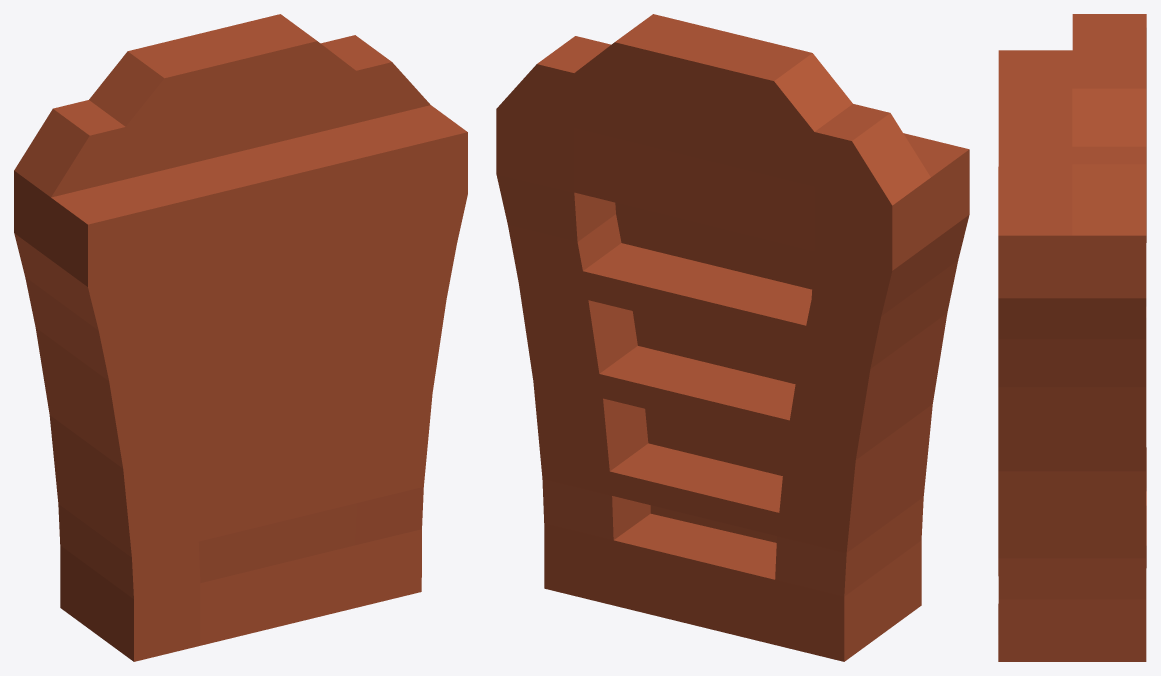
File: bookcase.fbx
3 renders of one model, left to right at view 1: azimuth 30°, elevation 25°; view 2: azimuth 150°, elevation 25°; view 3: azimuth 270°, elevation 25°, orthographic. The views are drawn at different scales.
Visible parts, largest first — view 1: Cube.017; view 2: Cube.017; view 3: Cube.017.
Boxes of the visible parts, <box> form: Cube.017: <box>14,14,467,661</box>; Cube.017: <box>496,14,969,661</box>; Cube.017: <box>998,14,1146,661</box>.
Size of the model in its own units: 713 by 969 by 241.
